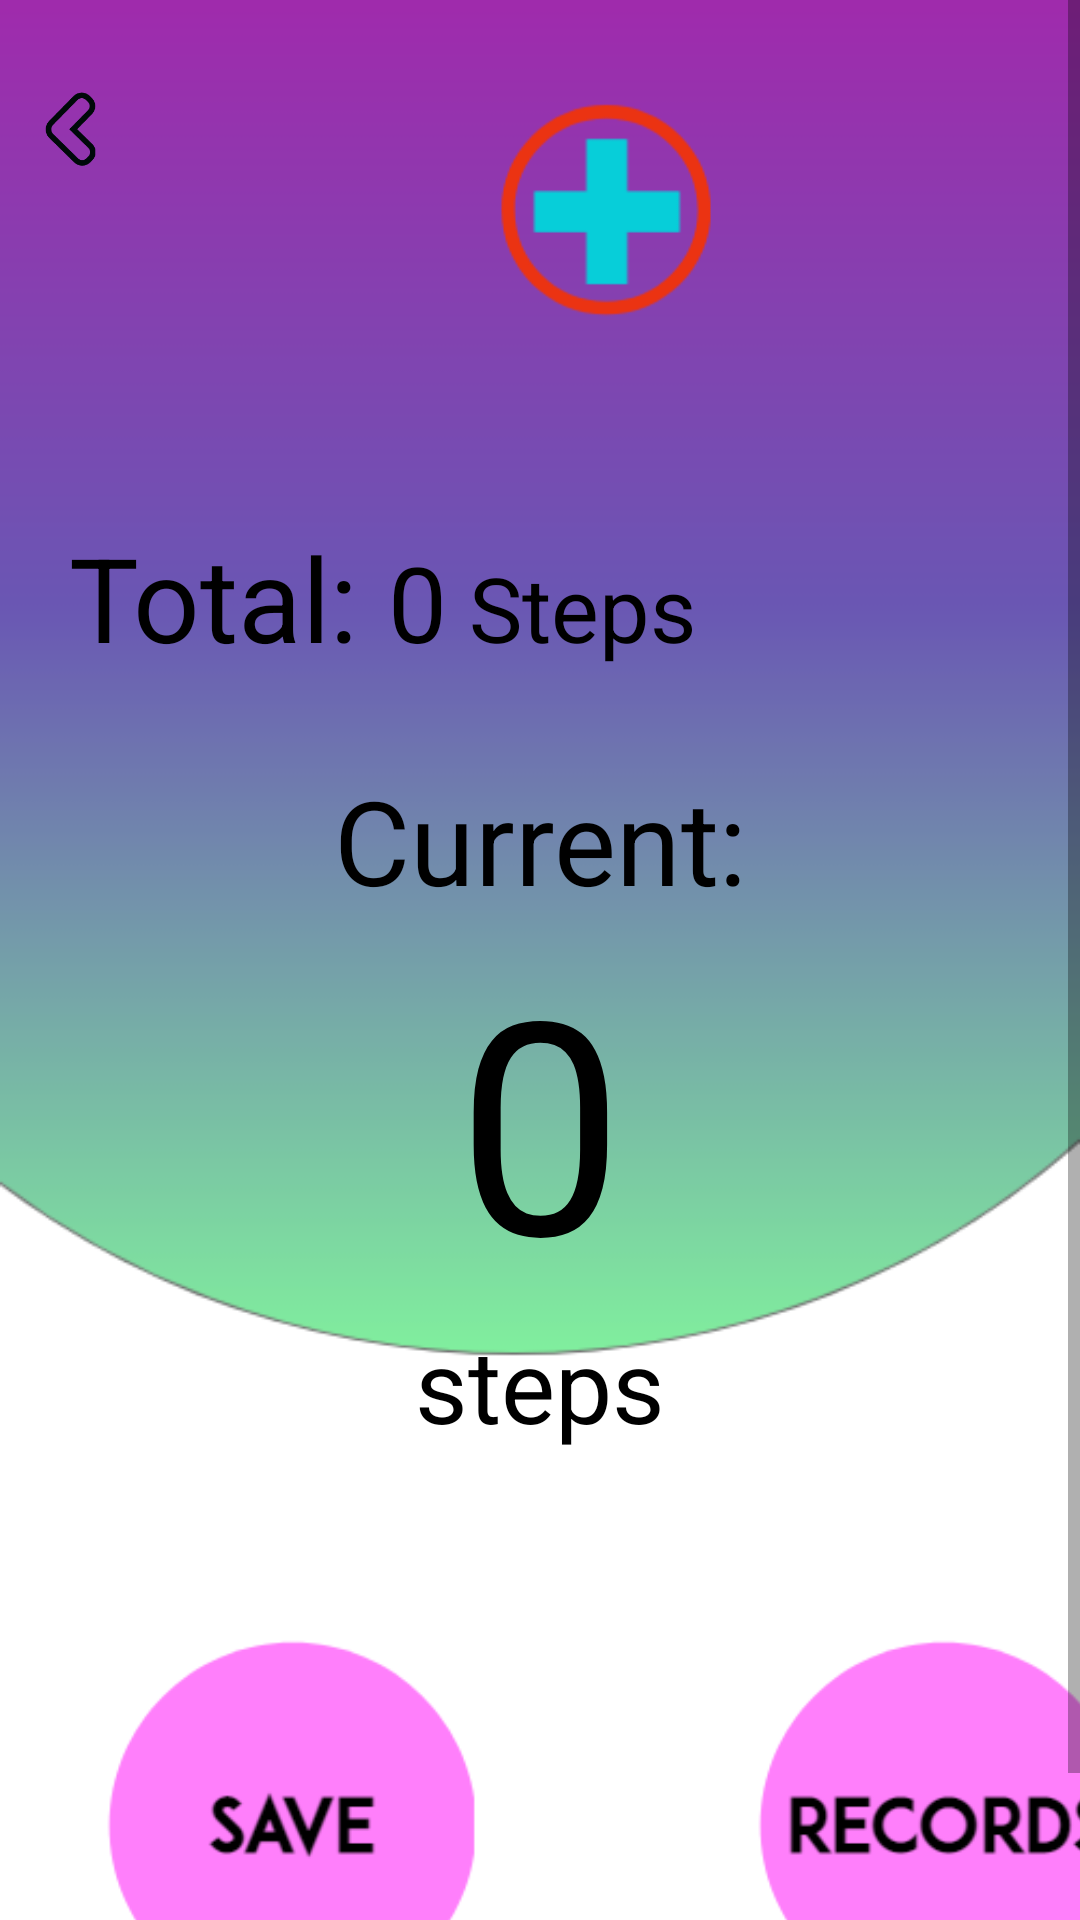

Where to tap for icons on this 1080 × 1920 app screen, as point (x, y):
back: point (70, 129)
